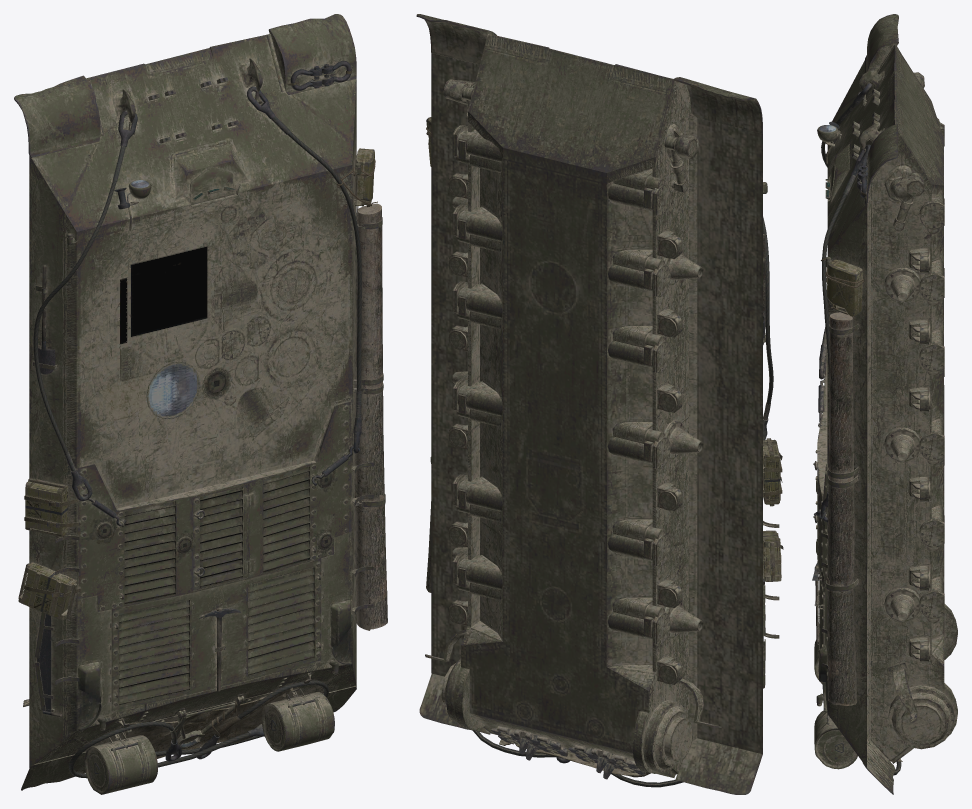
Rendered from Hull.glb.
3 renders of one model, left to right at view 1: azimuth 30°, elevation 25°; view 2: azimuth 150°, elevation 25°; view 3: azimuth 270°, elevation 25°, orthographic. The views are drawn at different scales.
Parts seen in each view (by area): view 1: set_0_group_0; view 2: set_0_group_0; view 3: set_0_group_0.
Part boxes in pixels (x1,y1,x2,y2): set_0_group_0: (14, 14, 387, 794); set_0_group_0: (416, 14, 783, 794); set_0_group_0: (812, 14, 957, 794).
Size of the model in its own units: 3.6 by 6.84 by 1.38.
1 material, 1 textured.
